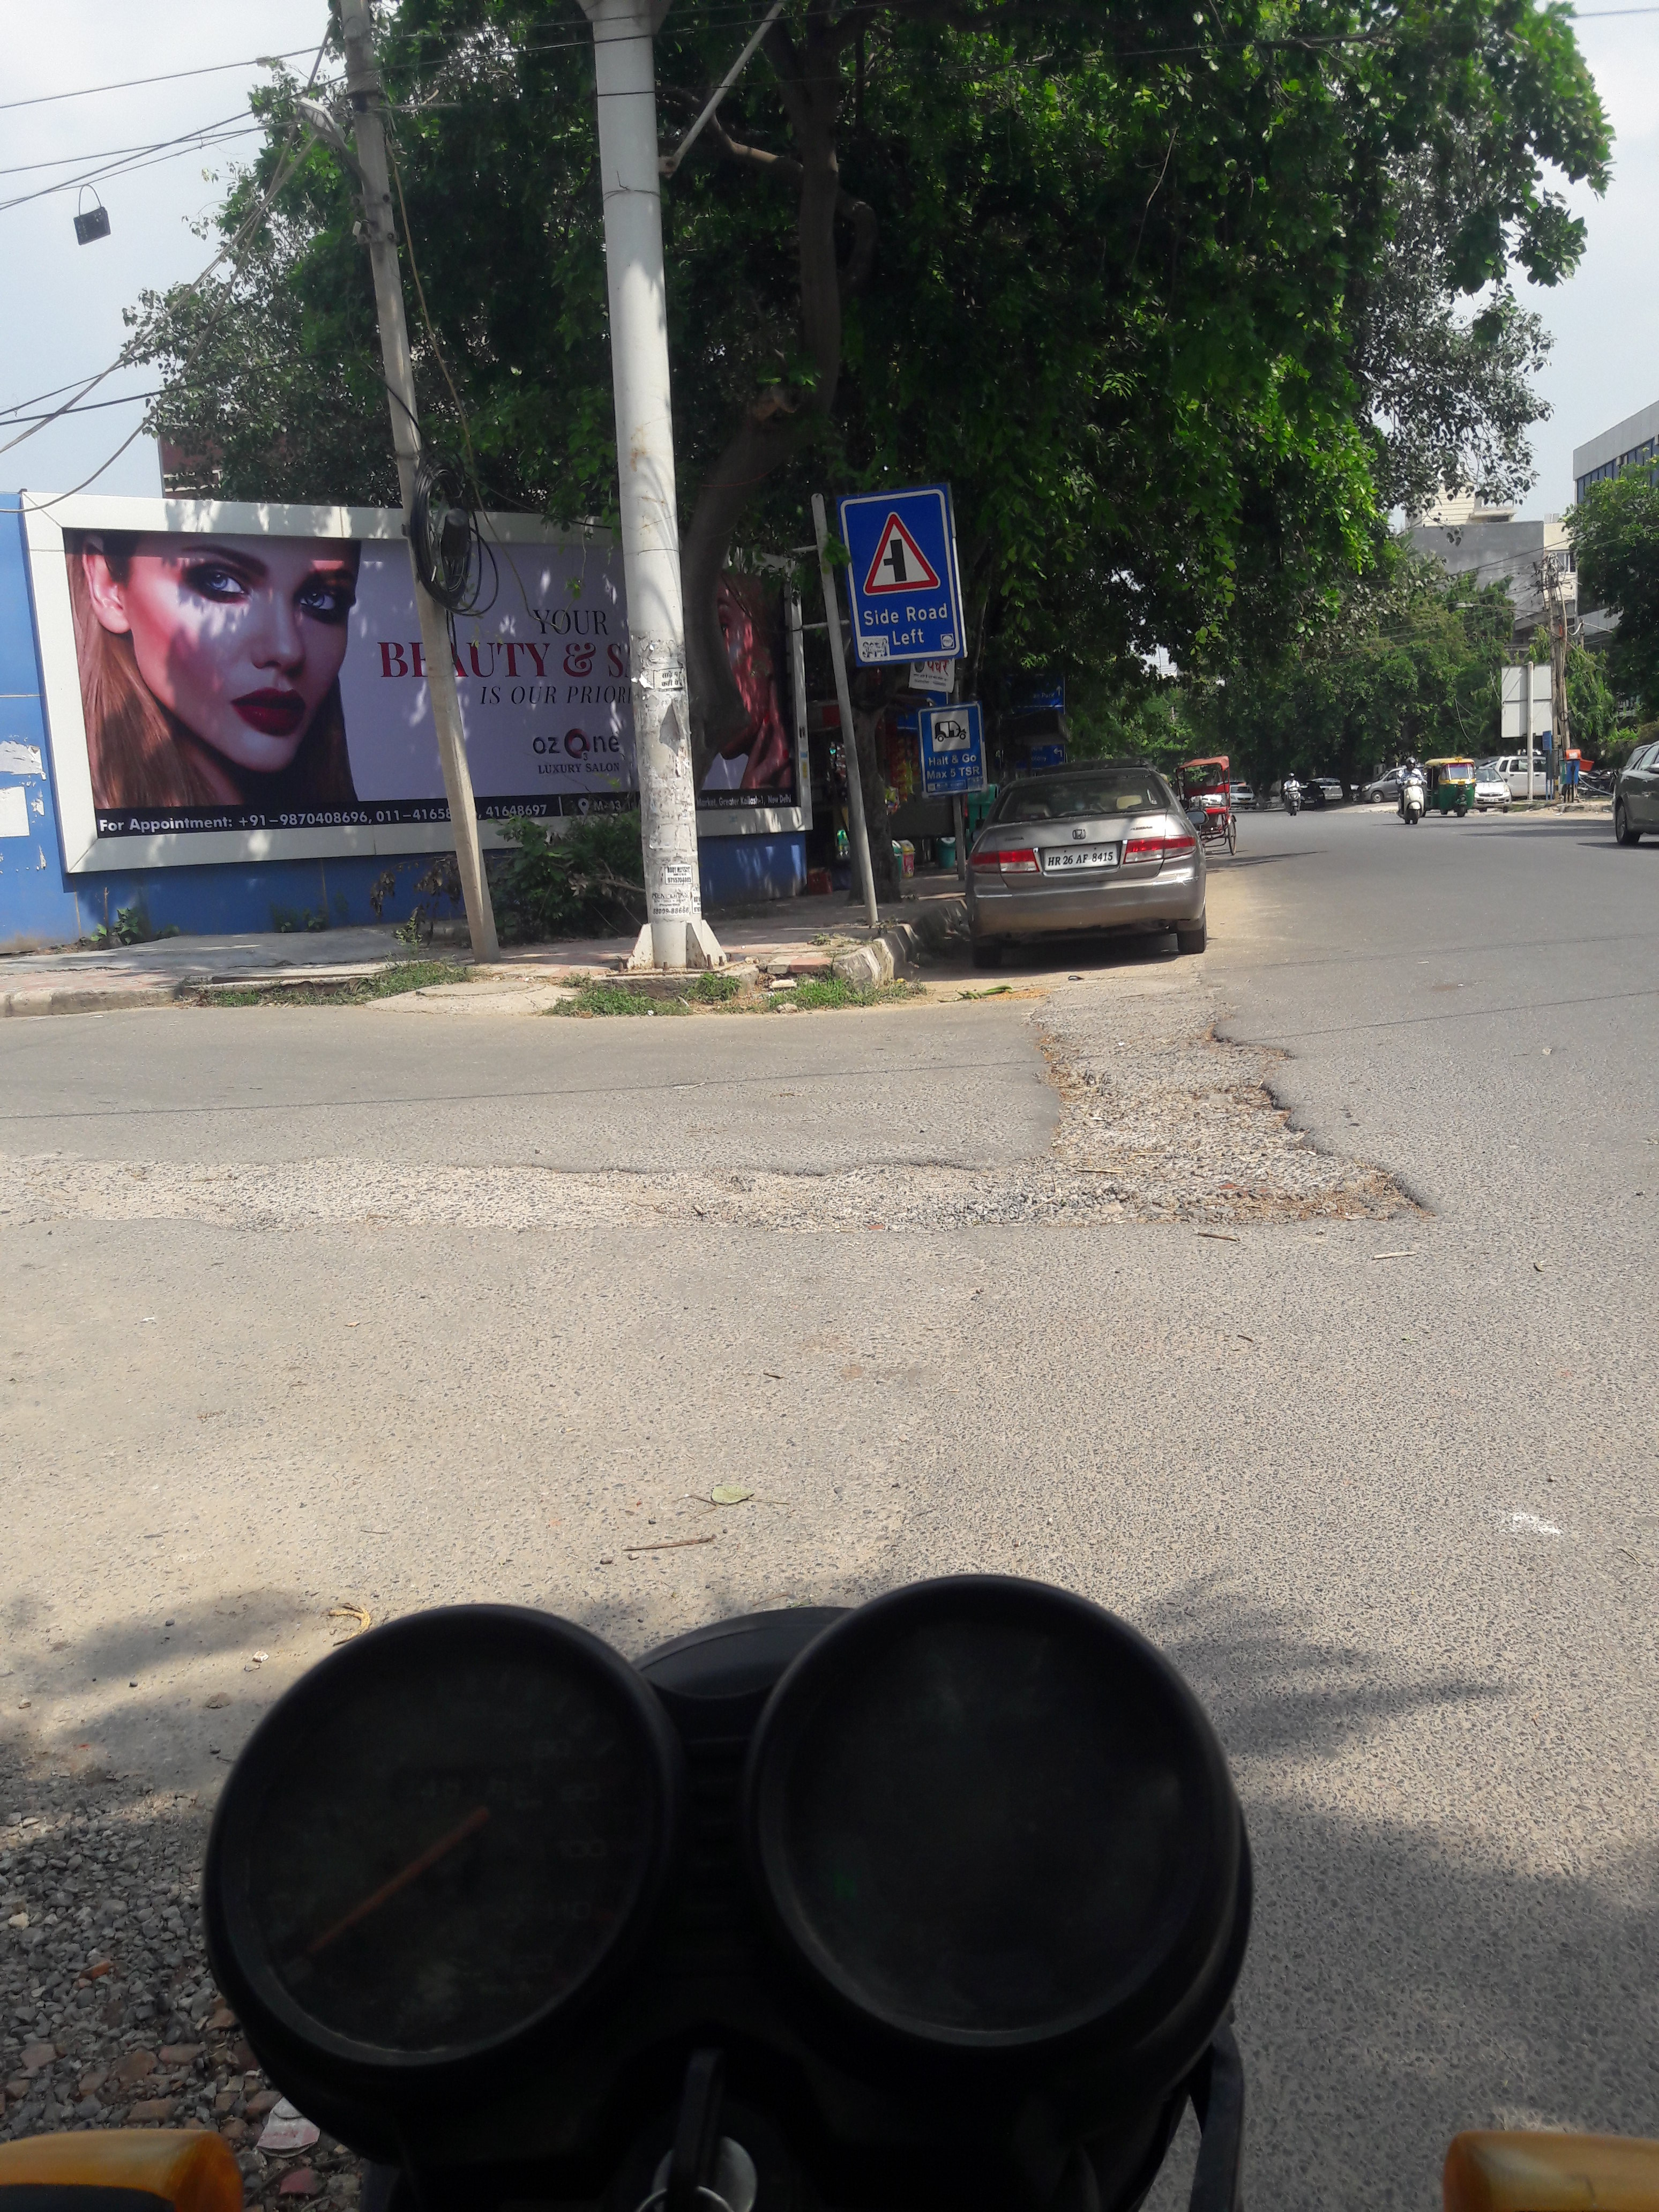traffic_sign: (836, 482, 971, 665), (917, 700, 985, 798)
